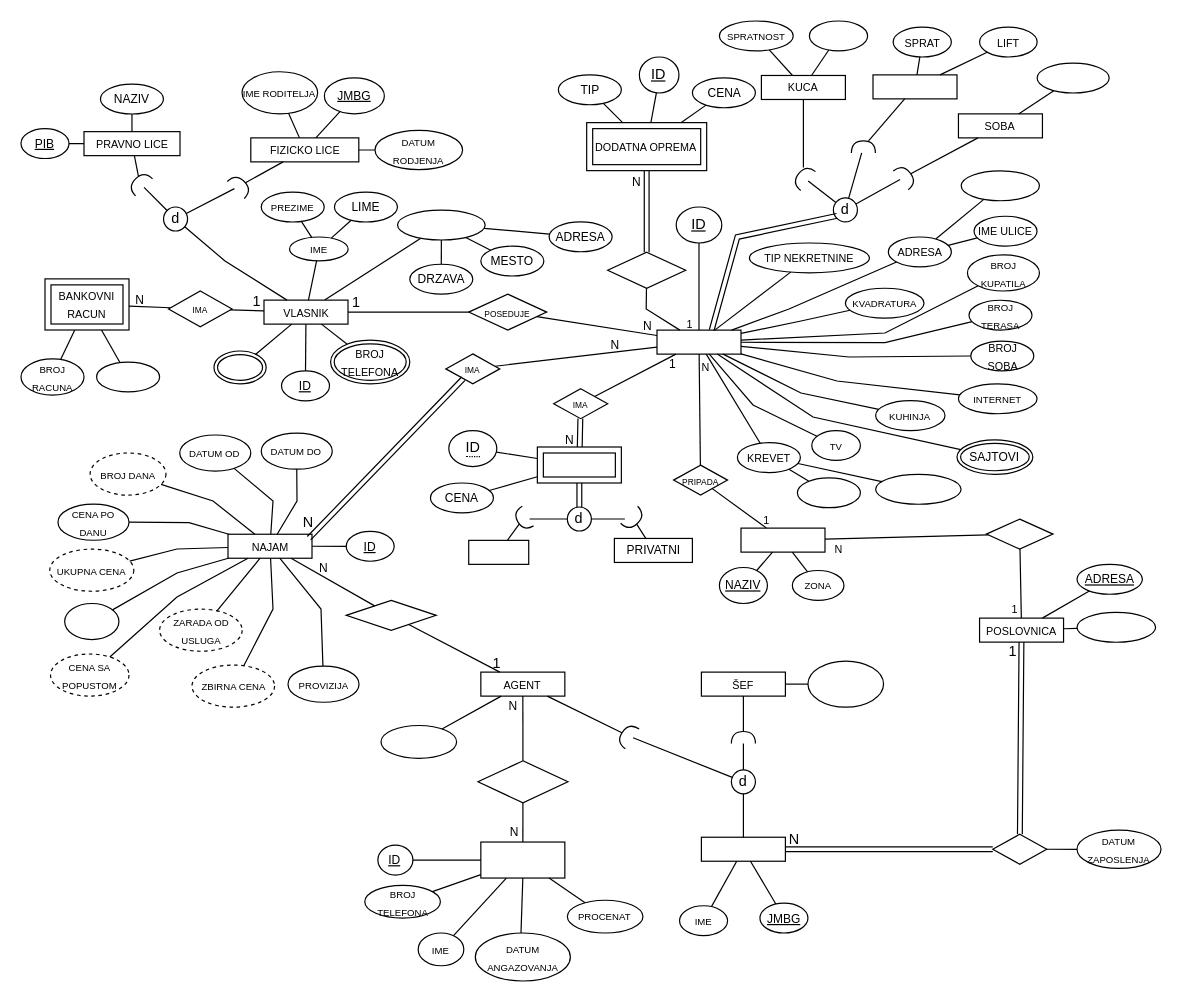
Image size: 1182x1002. Some labels were removed from this diagram. The centre of each missing label's shape, as x and y in pixels:
ANGAZUJE: (522,781)
DATUM POSTAVLJANJA: (845,683)
DIMENZIJE: (828,492)
DVORISTE: (838,35)
EMAIL: (239,367)
IME BANKE: (127,376)
JAVNI: (498,551)
KUCNI BROJ: (999,185)
KVART: (782,539)
NEKRETNINA: (698,341)
OBJEKAT: (1072,77)
PARKING: (578,464)
POPUST: (91,621)
PREBIVALISTE: (440,224)
RADI U: (1019,848)
RADNO VREME: (1116,626)
SPOLJNI RADNIK: (522,859)
STAN: (914,86)
STRUCNA SPREMA: (418,741)
TIP KREVETA: (917,488)
VEZANA ZA: (646,269)
ZADUZEN: (390,614)
ZADUZENA: (1019,533)
ZAPOSLEN: (742,848)
